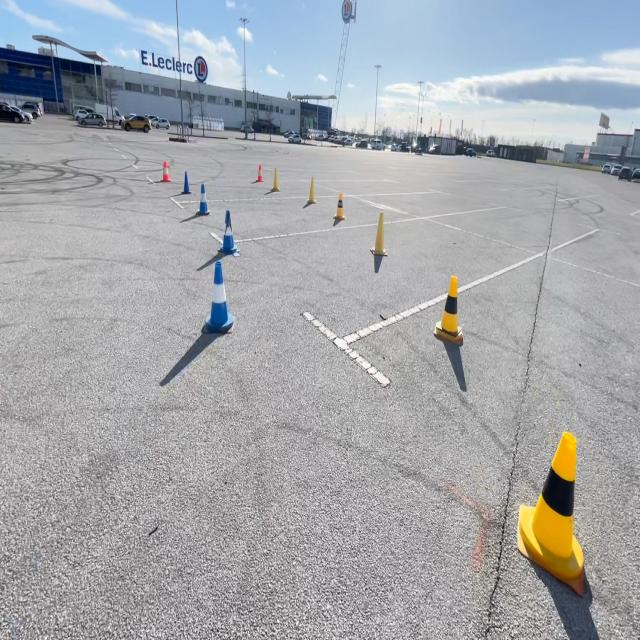blue_cone: (202, 261, 235, 336), (216, 210, 240, 256), (195, 183, 211, 216), (181, 171, 191, 193)
orange_cone: (161, 161, 171, 181), (256, 164, 264, 181)
yellow_cone: (516, 432, 585, 598), (433, 275, 464, 346), (370, 212, 388, 256), (333, 192, 346, 220), (307, 177, 317, 204), (271, 167, 281, 192)
